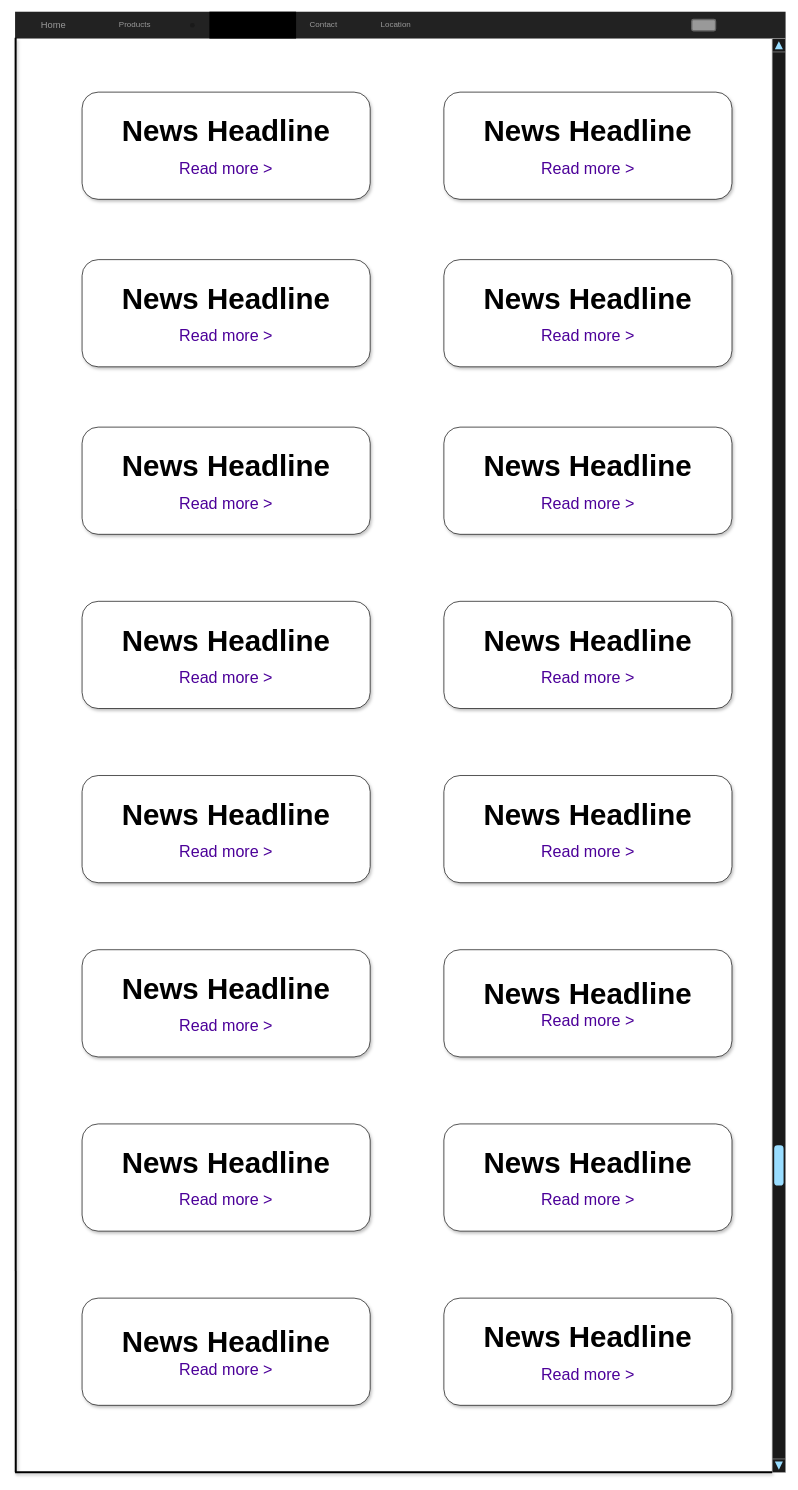
This 798x1490 diagram has some shape labels left out. Each missing label, with the centre of its shape:
Login: (x=703, y=24)
News: (x=252, y=24)
